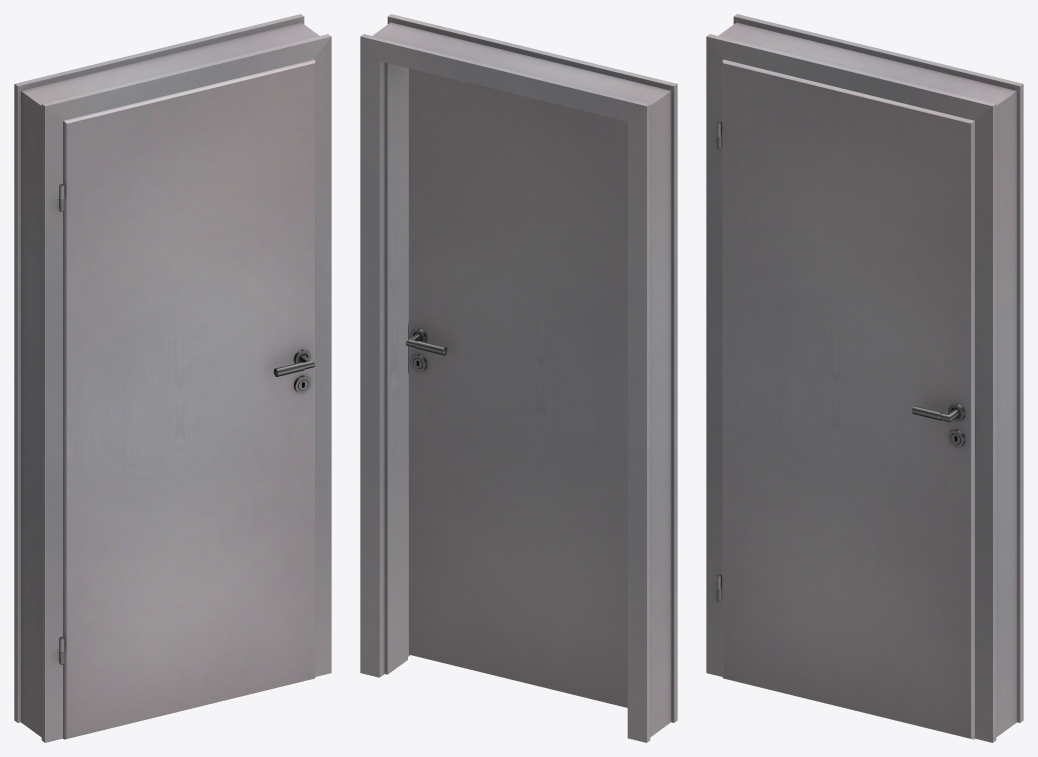
Rendered from door_scaled.obj.
3 renders of one model, left to right at view 1: azimuth 30°, elevation 25°; view 2: azimuth 150°, elevation 25°; view 3: azimuth 330°, elevation 25°, orthographic.
Parts seen in each view (by area): view 1: Plane001_Door_0, Plane002_Door_0, Plane001_Glossy_0; view 2: Plane001_Door_0, Plane002_Door_0; view 3: Plane001_Door_0, Plane002_Door_0, Plane001_Glossy_0.
Part boxes in pixels (x1=…): Plane001_Door_0: x1=63, y1=59, x2=315, y2=739; Plane002_Door_0: x1=14, y1=14, x2=331, y2=742; Plane001_Glossy_0: x1=59, y1=184, x2=310, y2=651; Plane001_Door_0: x1=408, y1=68, x2=627, y2=707; Plane002_Door_0: x1=360, y1=14, x2=677, y2=742; Plane001_Door_0: x1=722, y1=59, x2=974, y2=739; Plane002_Door_0: x1=706, y1=14, x2=1023, y2=742; Plane001_Glossy_0: x1=716, y1=121, x2=965, y2=588.
Bounding box in the file's own units: 1.16 × 2.47 × 0.3127.
